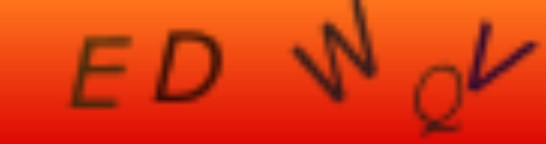D: (151, 26, 224, 104)
E: (63, 33, 138, 111)
Q: (410, 61, 466, 137)
V: (467, 13, 542, 93)
W: (292, 1, 384, 107)
